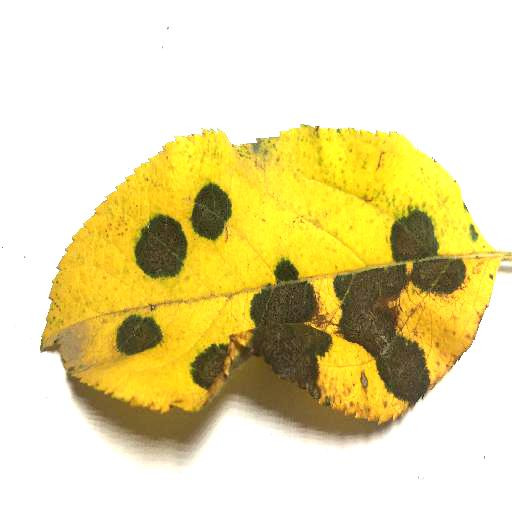Brown_Spot: (239, 236, 466, 414), (127, 222, 180, 271), (397, 218, 432, 260), (119, 316, 154, 347), (197, 344, 220, 382)
